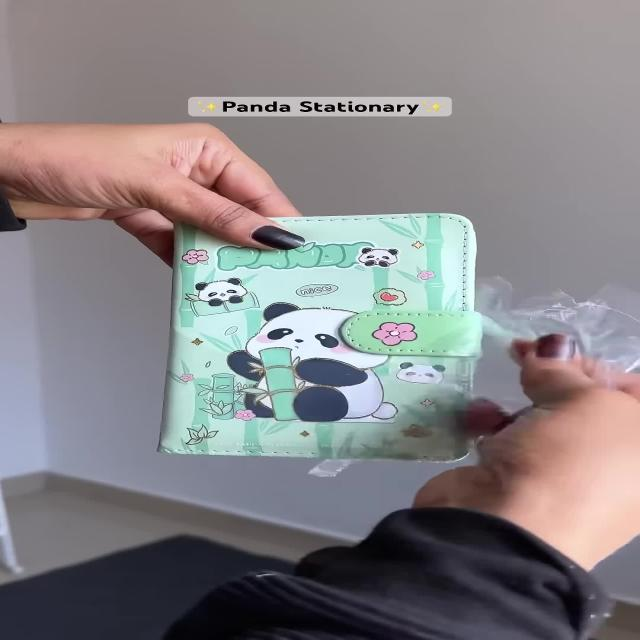diary: (139, 192, 501, 478)
